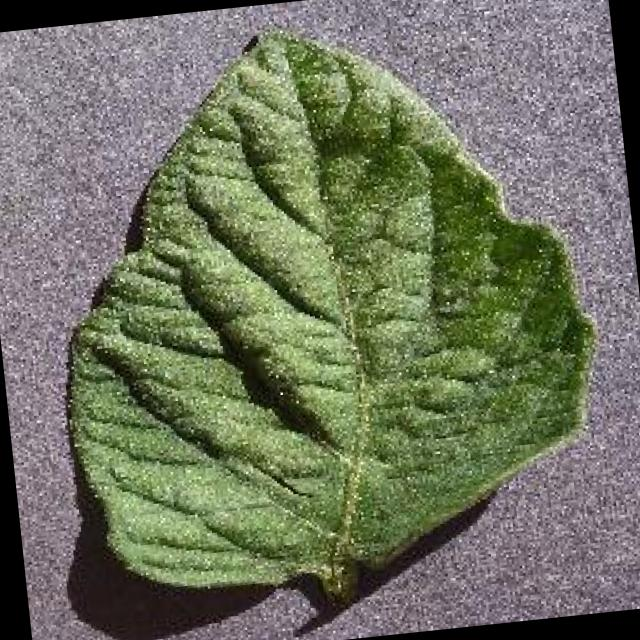Tomato_Healthy: (19, 0, 623, 632)
